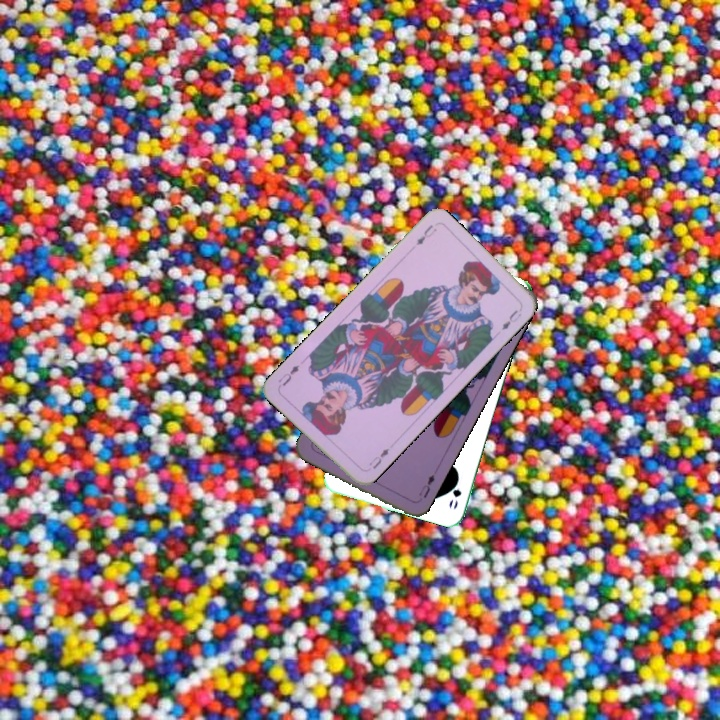EU: (365, 444, 392, 472), (412, 221, 440, 248), (414, 470, 437, 501)
GO: (445, 471, 464, 512)
